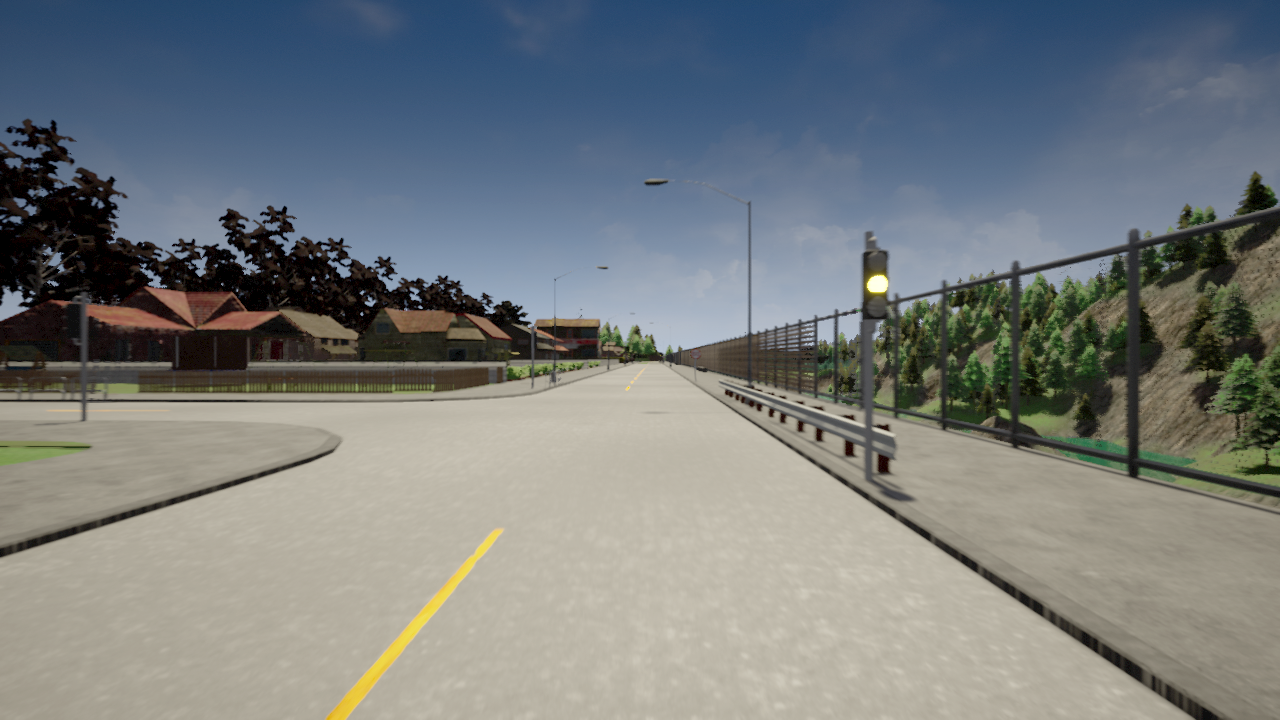yellow: (860, 251, 889, 321)
